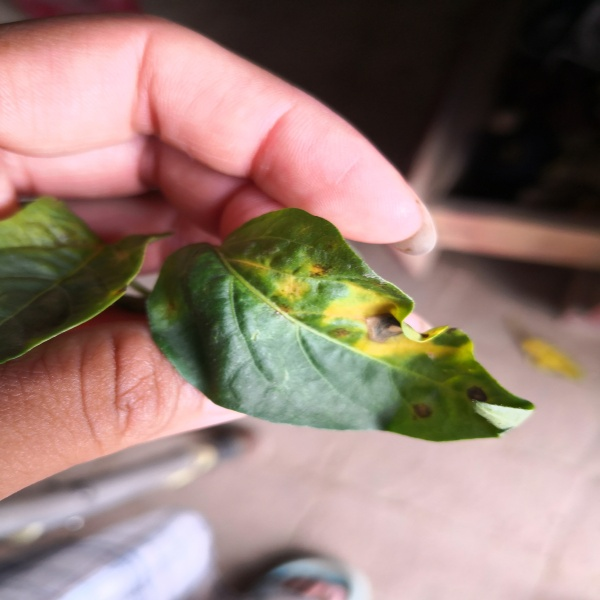Improper medication: (153, 207, 538, 442), (1, 195, 87, 260), (96, 227, 148, 311)
